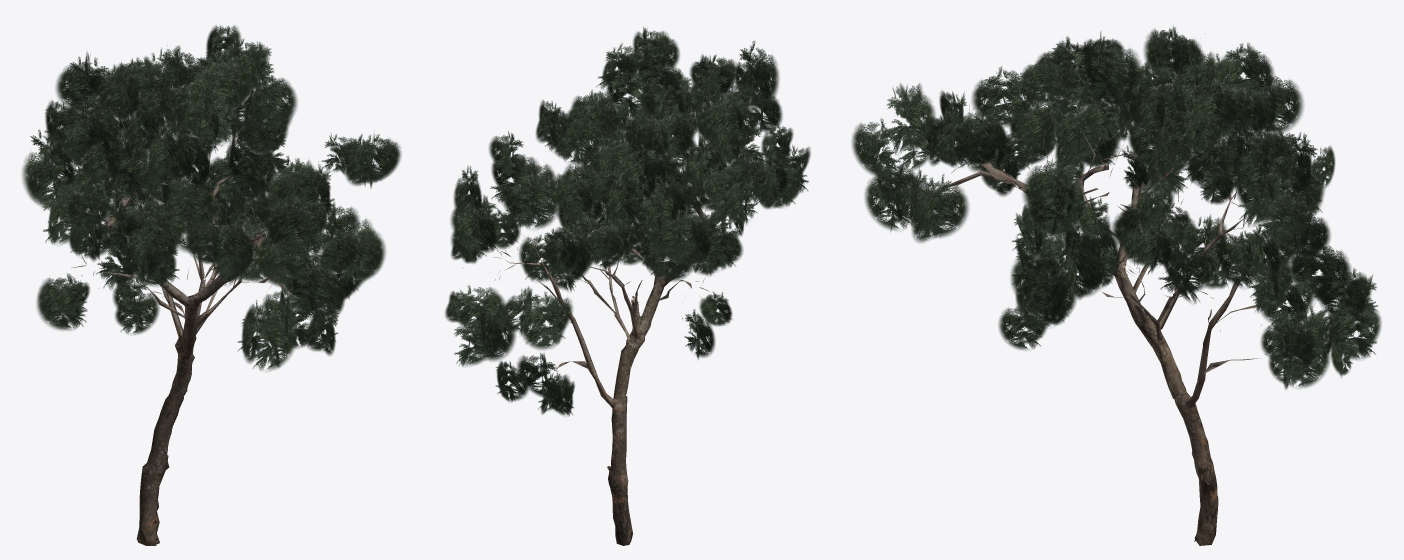
File: tree-v3-high.glb
3 renders of one model, left to right at view 1: azimuth 30°, elevation 25°; view 2: azimuth 150°, elevation 25°; view 3: azimuth 270°, elevation 25°, orthographic. The views are drawn at different scales.
Parts seen in each view (by area): view 1: tree-v3-high; view 2: tree-v3-high; view 3: tree-v3-high.
Part boxes in pixels (left/top/right/bottom): tree-v3-high: left=22, top=25, right=401, bottom=545; tree-v3-high: left=445, top=26, right=810, bottom=545; tree-v3-high: left=851, top=26, right=1381, bottom=545.
Bounding box in the file's own units: 8.84 × 14.61 × 13.71.
3 materials, 3 textured.
